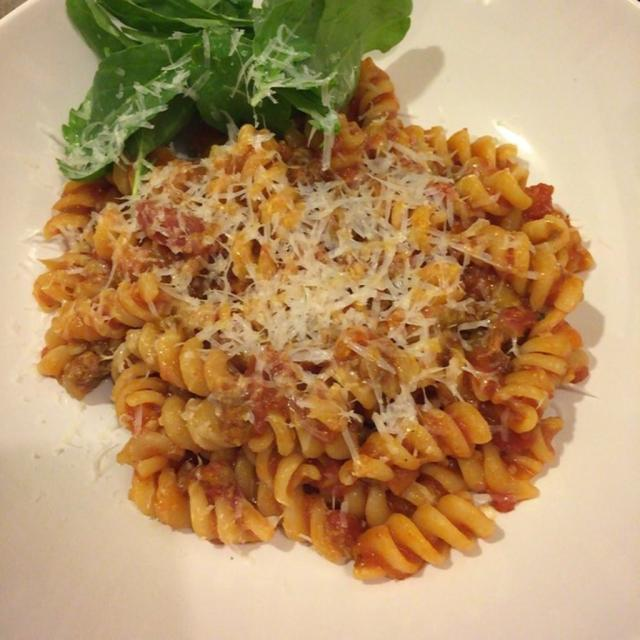Pasta: (35, 24, 610, 592)
